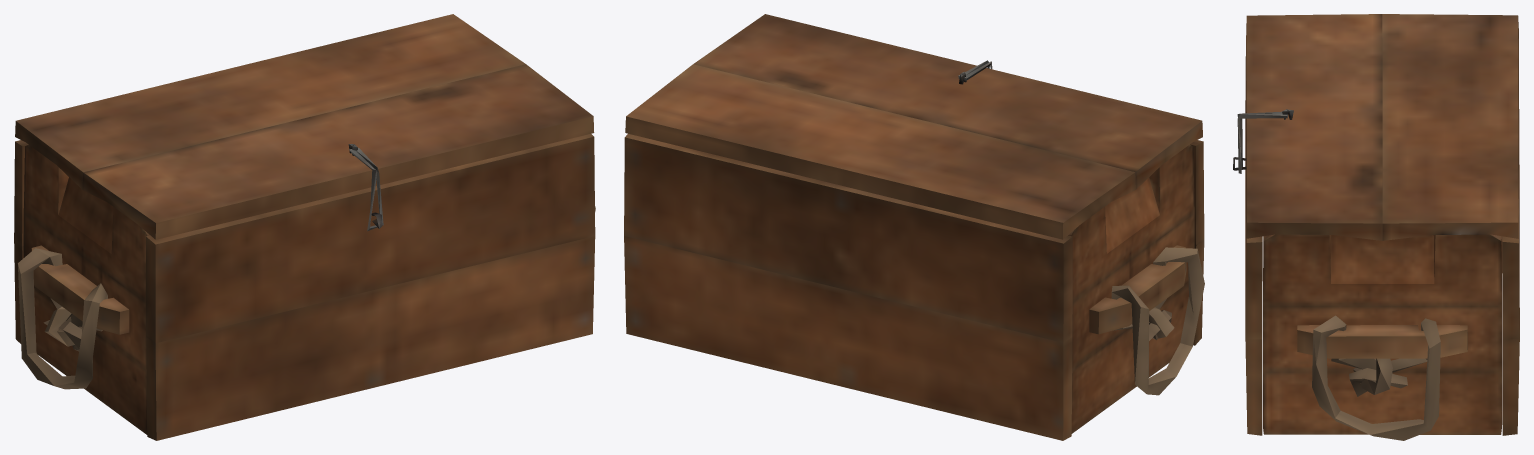
Rendered from wooden_crate_01.fbx.
3 views of the same model, side by side, from view 1: azimuth 30°, elevation 25°; view 2: azimuth 150°, elevation 25°; view 3: azimuth 270°, elevation 25° (orthographic). The views are drawn at different scales.
Parts seen in each view (by area): view 1: wooden_crate_01; view 2: wooden_crate_01; view 3: wooden_crate_01.
Boxes of the visible parts, x1,y1,x2,y2 form: wooden_crate_01: [14, 14, 595, 440]; wooden_crate_01: [624, 14, 1204, 440]; wooden_crate_01: [1233, 14, 1519, 440].
Size of the model in its own units: 0.8234 by 0.3472 by 0.406.
